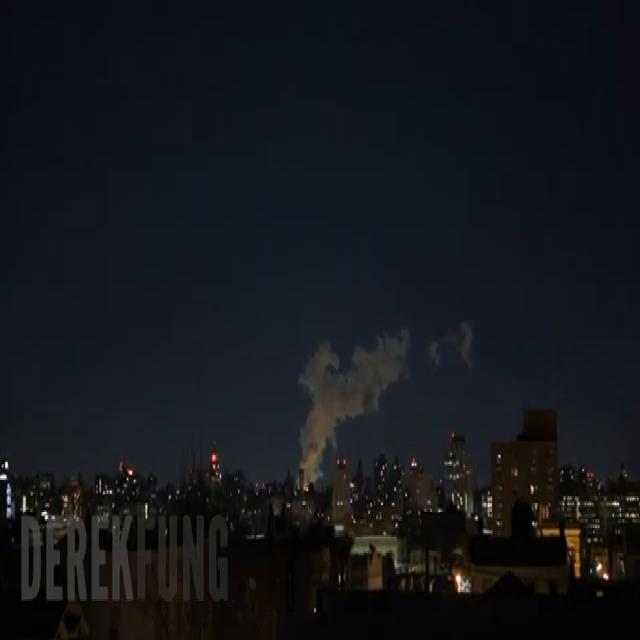smoke: (299, 331, 409, 478)
